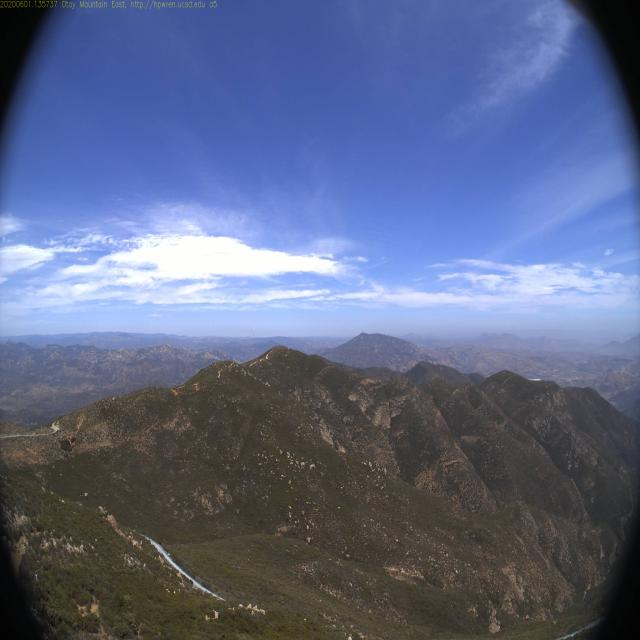smoke: (249, 321, 259, 338)
